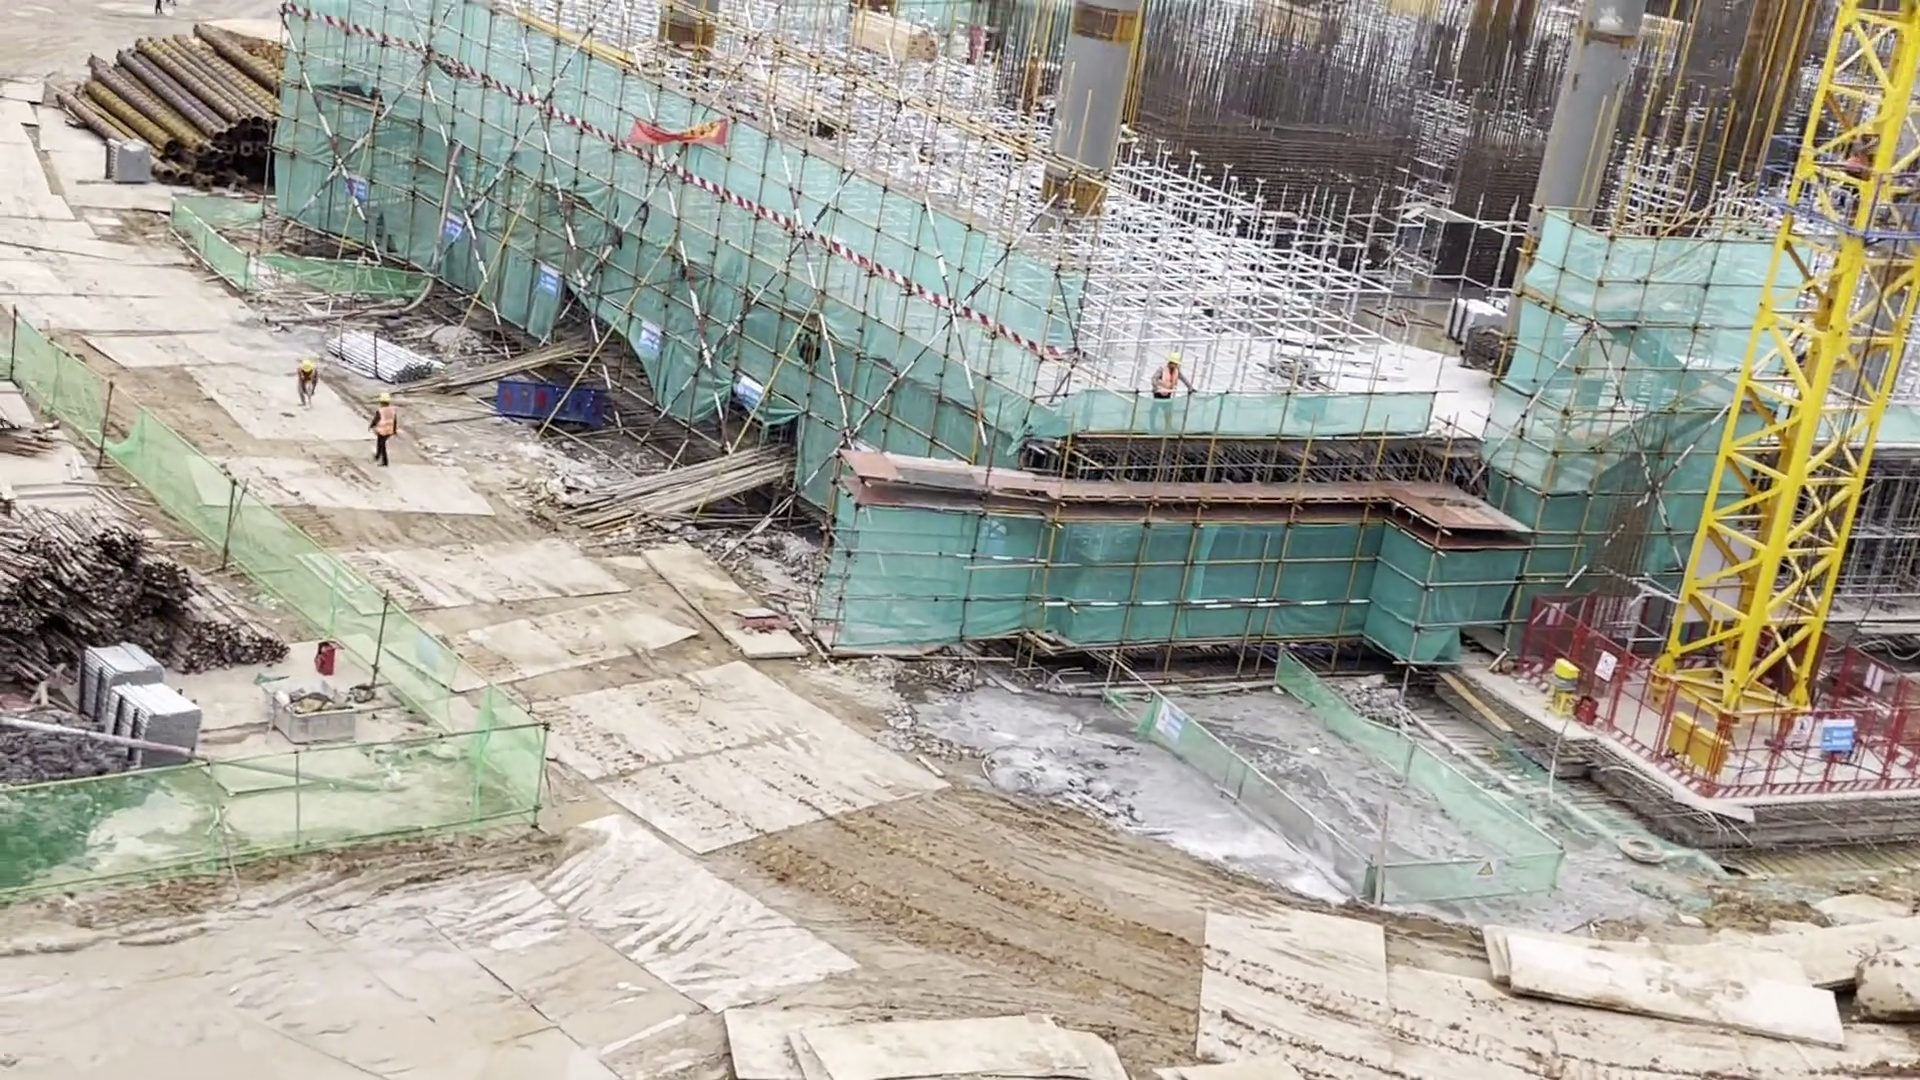brick: (69, 644, 206, 767), (1422, 284, 1506, 344)
ebox: (1658, 713, 1735, 793)
helmet: (1164, 351, 1183, 366), (377, 390, 395, 403), (300, 361, 314, 373)
hopper: (269, 679, 365, 745), (498, 377, 610, 428)
person: (1145, 345, 1185, 429), (367, 390, 403, 474), (282, 360, 328, 410)
vest: (1155, 366, 1180, 401), (374, 408, 395, 437)
wood: (15, 505, 250, 627)
